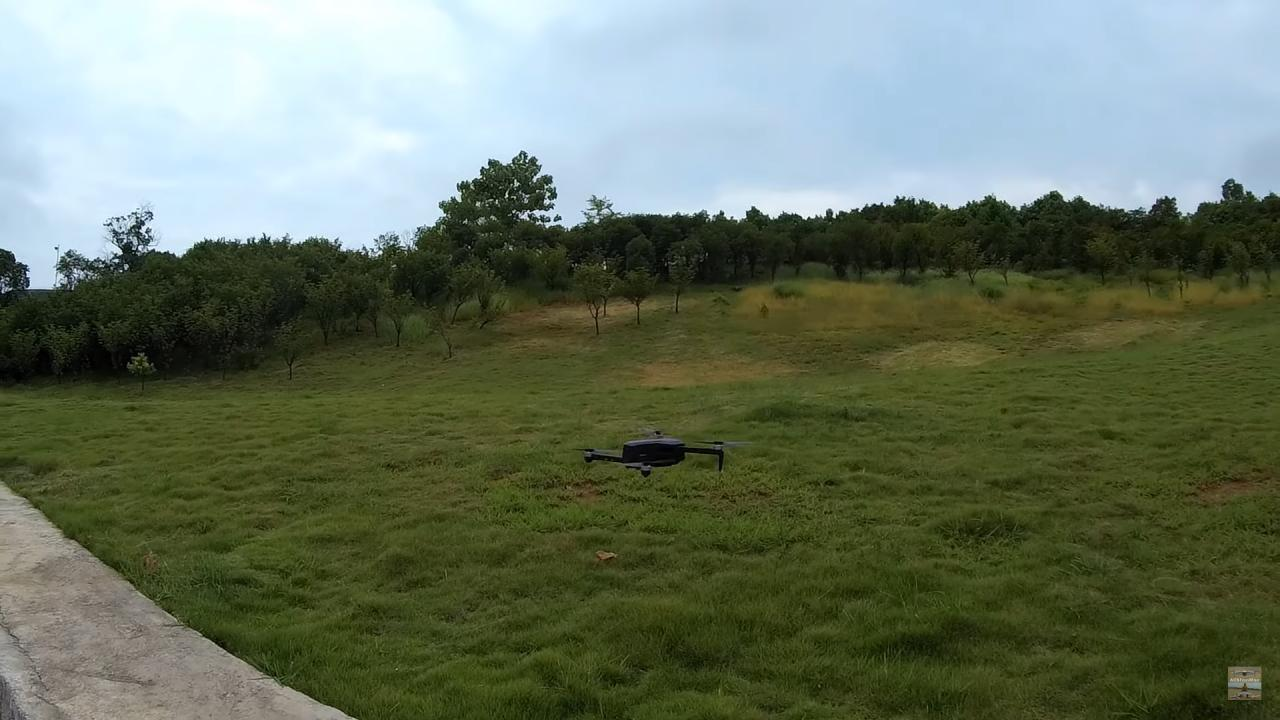Drone: (574, 424, 735, 487)
